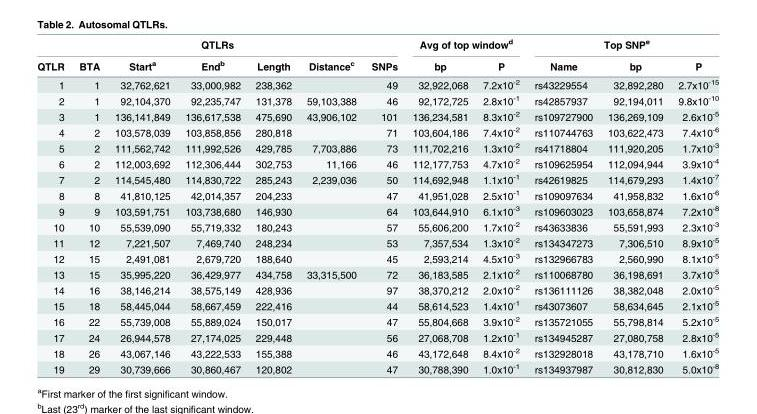table: (36, 36, 718, 374)
table column: (526, 36, 599, 374), (106, 36, 177, 374), (599, 36, 670, 374), (177, 36, 247, 374), (404, 36, 474, 374), (298, 36, 363, 374), (474, 36, 526, 374), (247, 36, 298, 374), (670, 36, 718, 374), (363, 36, 404, 374), (36, 36, 71, 374), (71, 36, 106, 374)
table column header: (36, 36, 718, 74)
table row: (36, 54, 718, 74), (36, 36, 718, 54), (36, 74, 718, 91), (36, 91, 718, 107), (36, 107, 718, 123), (36, 123, 718, 139), (36, 139, 718, 155), (36, 170, 718, 186), (36, 186, 718, 202), (36, 202, 718, 218), (36, 218, 718, 234), (36, 249, 718, 265), (36, 265, 718, 281), (36, 281, 718, 297), (36, 312, 718, 328), (36, 328, 718, 344), (36, 344, 718, 360), (36, 155, 718, 170), (36, 234, 718, 249), (36, 297, 718, 312), (36, 360, 718, 374)
table spanning cell: (36, 36, 404, 54), (526, 36, 718, 54), (404, 36, 526, 54)
